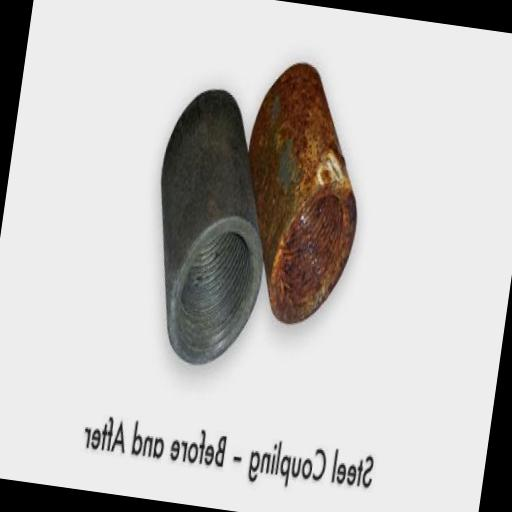segmentation: (236, 58, 372, 328)
